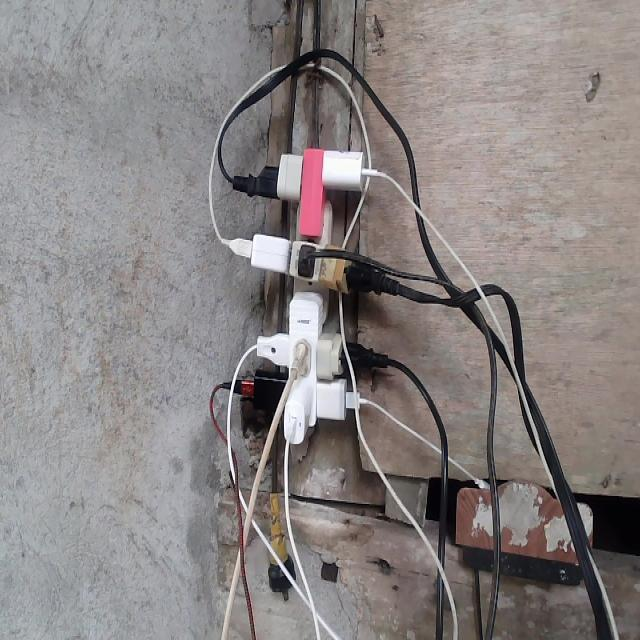-: (237, 147, 381, 441)
